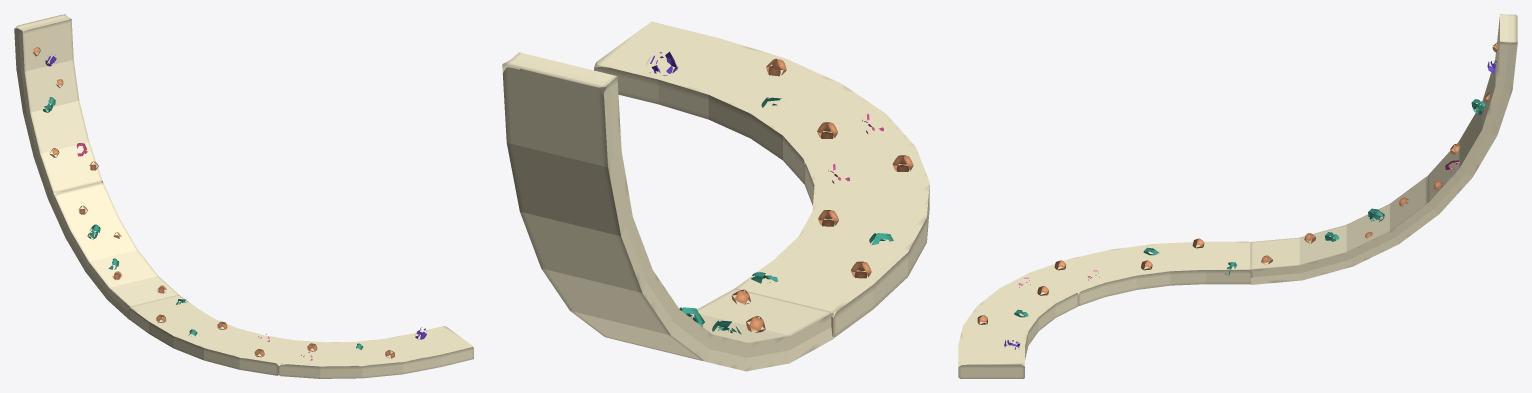
File: stage.obj
3 views of the same model, side by side, from view 1: azimuth 30°, elevation 25°; view 2: azimuth 150°, elevation 25°; view 3: azimuth 270°, elevation 25° (orthographic). The views are drawn at different scales.
Parts seen in each view (by area): view 1: VCurve, HCurve, cuboid, torus; view 2: HCurve, VCurve, cuboid, torus; view 3: HCurve, VCurve, cuboid, torus.
Boxes of the visible parts, x1,y1,x2,y2 form: VCurve: (14, 14, 178, 319); HCurve: (128, 295, 473, 378); cuboid: (32, 47, 394, 358); torus: (43, 54, 426, 360); HCurve: (594, 21, 929, 337); VCurve: (502, 52, 834, 371); cuboid: (731, 58, 913, 332); torus: (649, 51, 893, 334); HCurve: (958, 241, 1252, 378); VCurve: (1250, 14, 1517, 284); cuboid: (977, 42, 1497, 324); torus: (1004, 61, 1496, 349).
Bounding box in the file's own units: 2.11 × 1.94 × 4.05.
